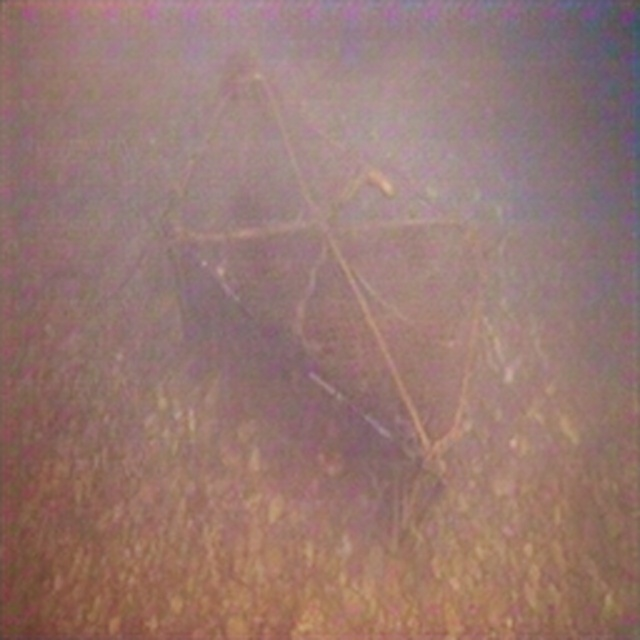mine: (162, 66, 487, 511)
